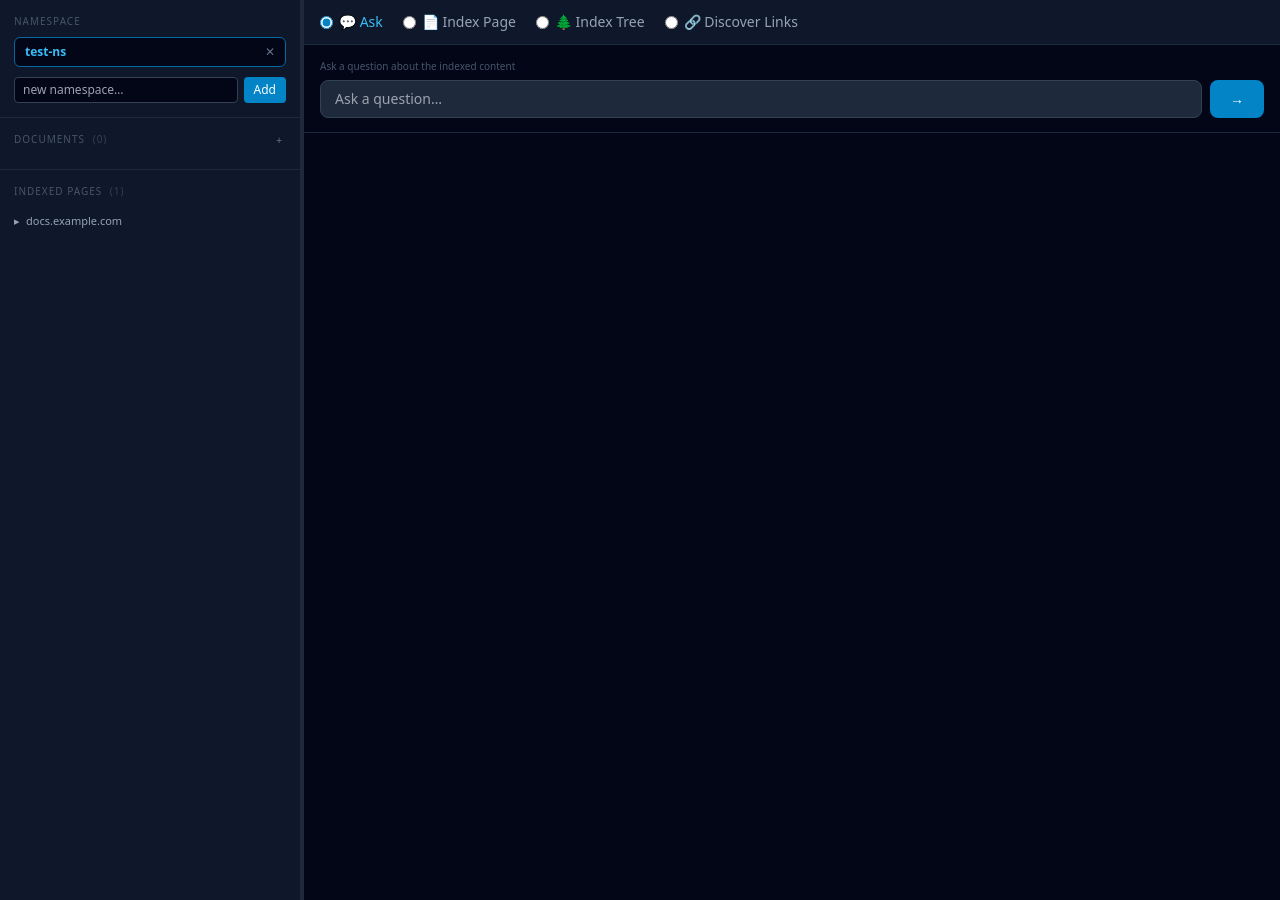
App › shows indexed page link after expanding domain
The image size is (1280, 900).
Click the button "▸ docs.example.com" at (74, 220), box [14,211,286,232]
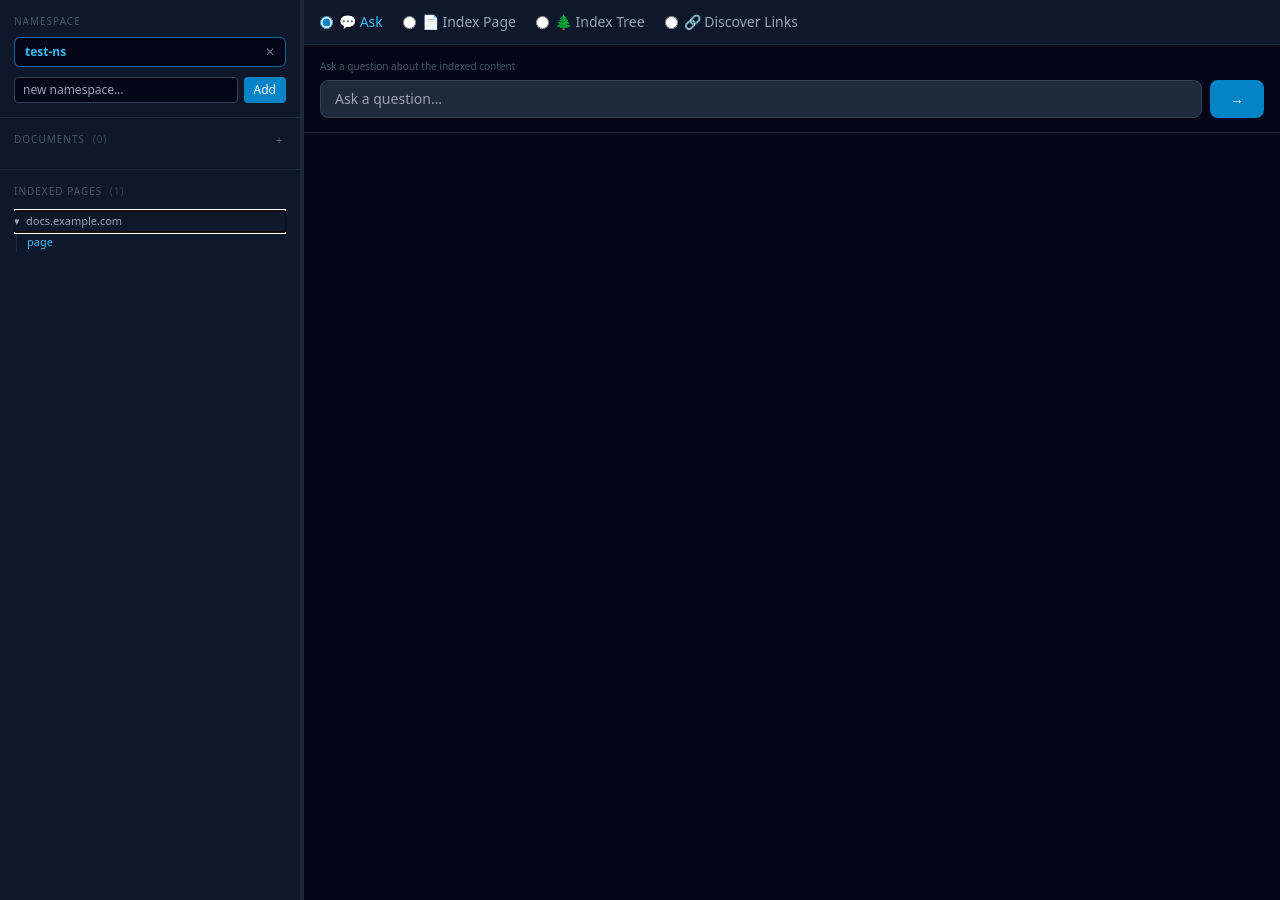
Expected: the link "page" is shown, [27,234,53,248]
